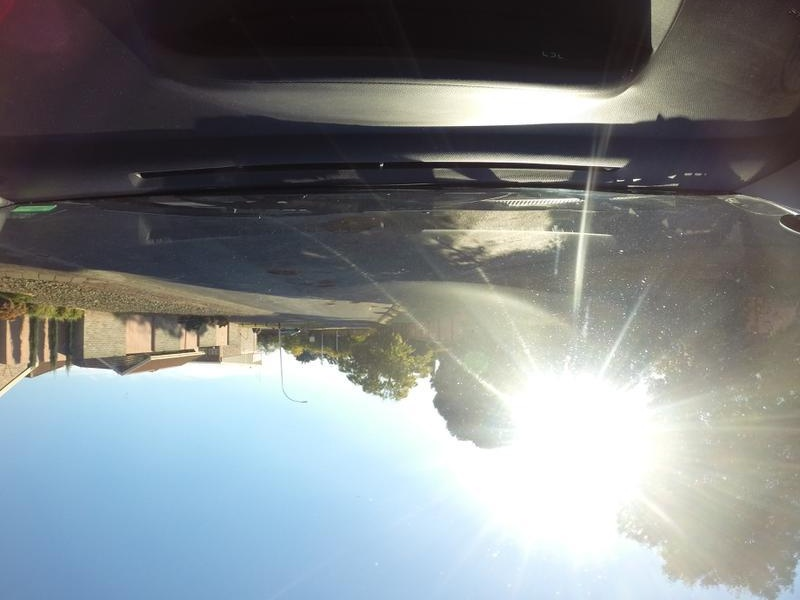pothole: (324, 214, 390, 237), (266, 268, 295, 278), (304, 280, 333, 290), (322, 298, 334, 309), (363, 302, 377, 310)
